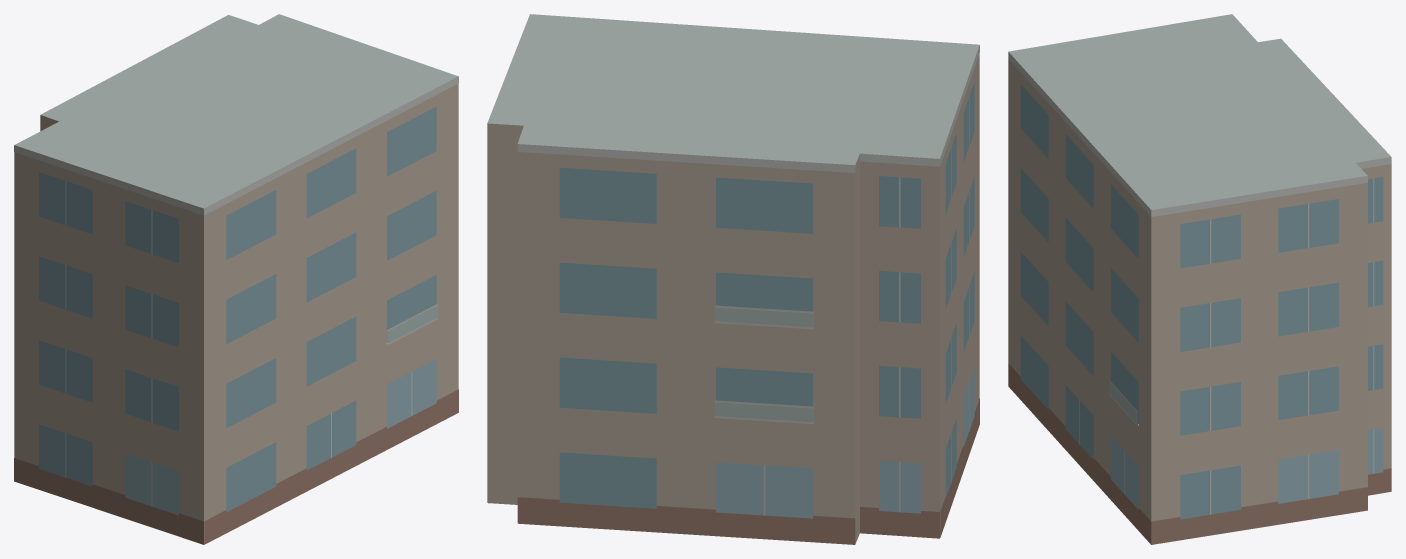
The model's file is survey-upis-32710133.glb.
3 renders of one model, left to right at view 1: azimuth 30°, elevation 25°; view 2: azimuth 150°, elevation 25°; view 3: azimuth 270°, elevation 25°, orthographic. The views are drawn at different scales.
Parts seen in each view (by area): view 1: survey-upis-32710133.tmp; view 2: survey-upis-32710133.tmp; view 3: survey-upis-32710133.tmp.
Part boxes in pixels (<box>): survey-upis-32710133.tmp: <box>14,14,458,544</box>; survey-upis-32710133.tmp: <box>487,14,979,544</box>; survey-upis-32710133.tmp: <box>1008,14,1391,544</box>.
Size of the model in its own units: 14.84 by 11.8 by 12.25.
